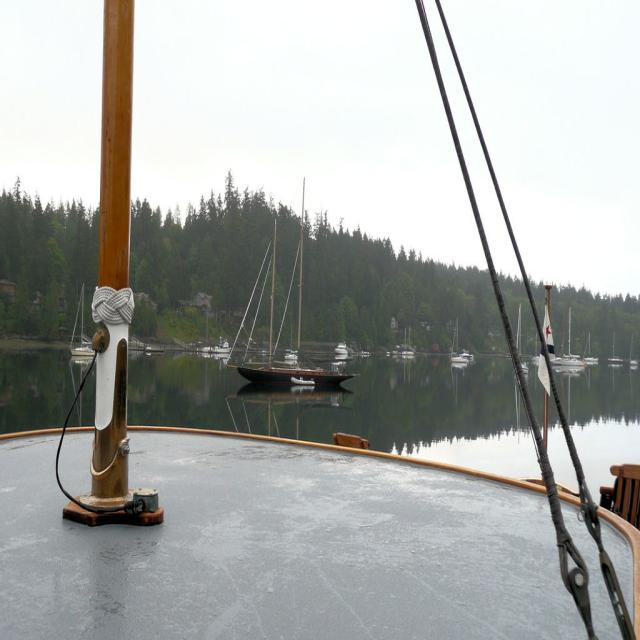Boat: (0, 0, 639, 639), (206, 237, 330, 423), (552, 306, 582, 370), (69, 288, 95, 361), (448, 321, 464, 367), (514, 308, 526, 369), (284, 326, 297, 360), (583, 333, 594, 364), (402, 326, 412, 358), (610, 336, 620, 364), (216, 339, 231, 354), (293, 378, 313, 384), (338, 345, 347, 353), (463, 350, 472, 358)
